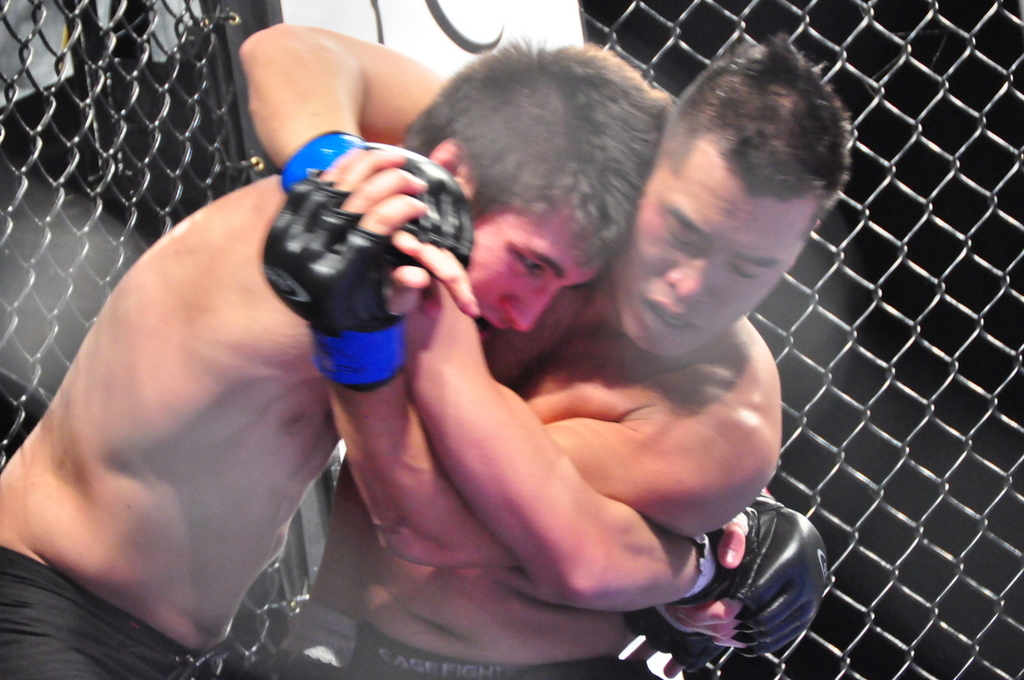Human_hand: (256, 145, 434, 352), (291, 144, 487, 319), (676, 491, 834, 661)
